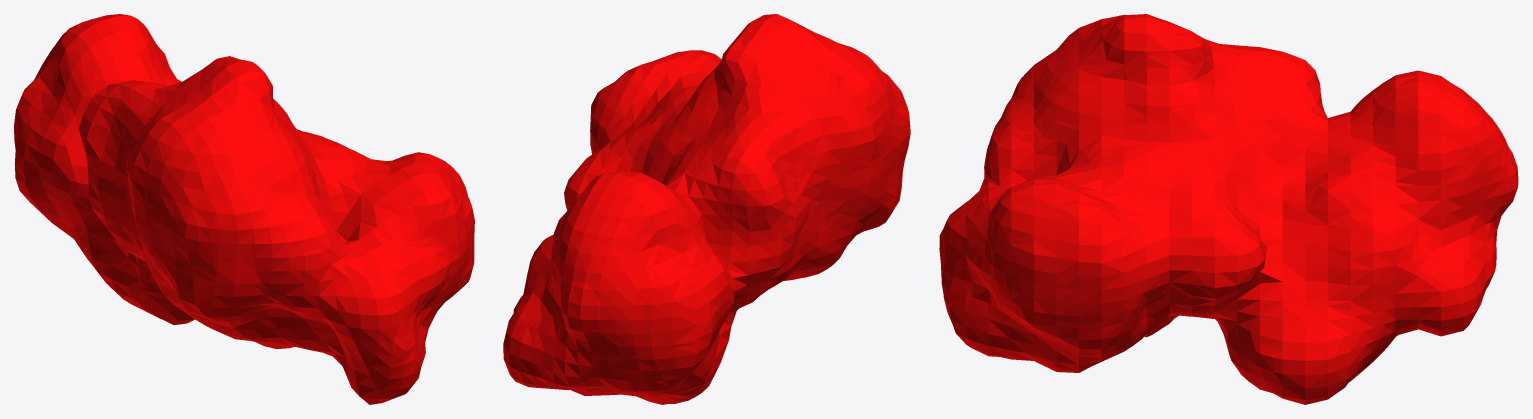
Rendered from potA_coarse.dae.
3 renders of one model, left to right at view 1: azimuth 30°, elevation 25°; view 2: azimuth 150°, elevation 25°; view 3: azimuth 270°, elevation 25°, orthographic.
Visible parts, largest first — view 1: potA; view 2: potA; view 3: potA.
Part boxes in pixels (bbox=[...]): potA: bbox=[14, 14, 474, 404]; potA: bbox=[503, 14, 910, 404]; potA: bbox=[939, 14, 1518, 404].
Size of the model in its own units: 50.87 by 52.24 by 83.15.
